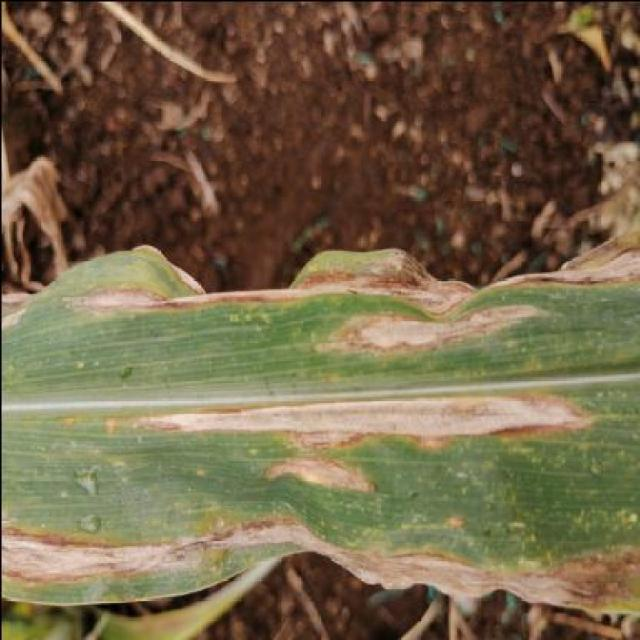Corn_Leaf_Blight: (1, 243, 640, 617)
